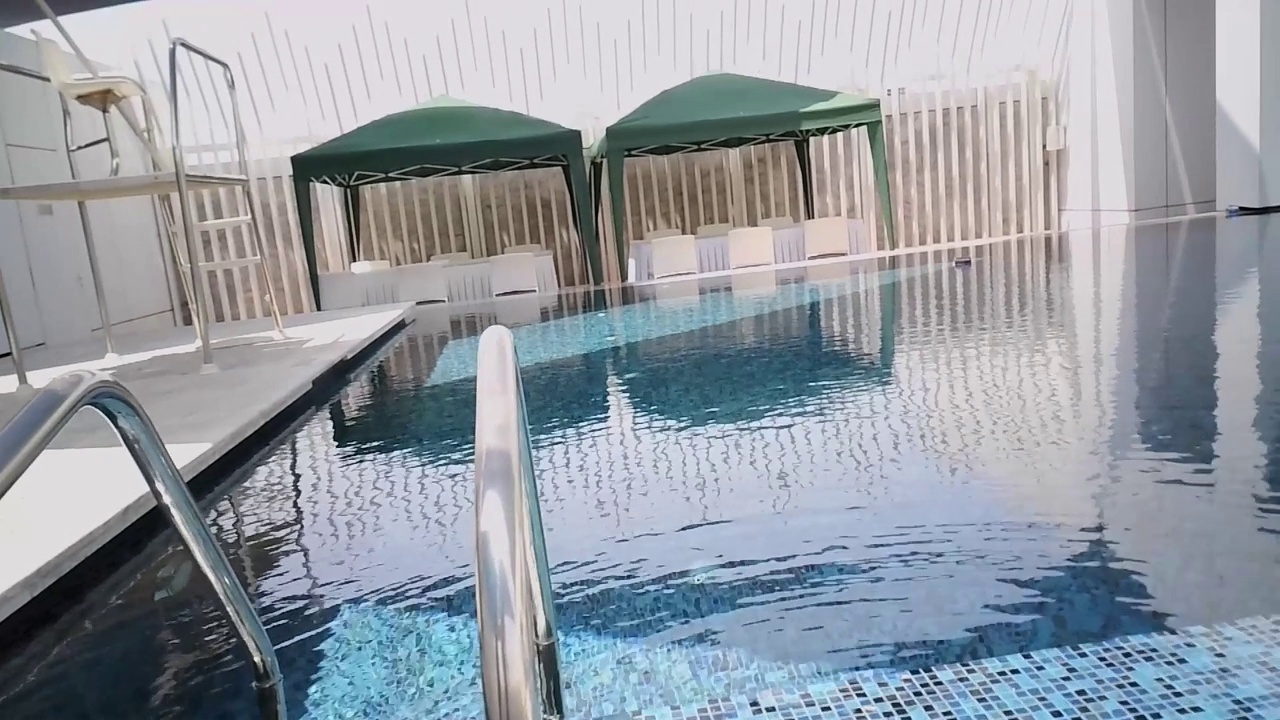debris: (1222, 202, 1242, 221), (950, 255, 973, 271)
